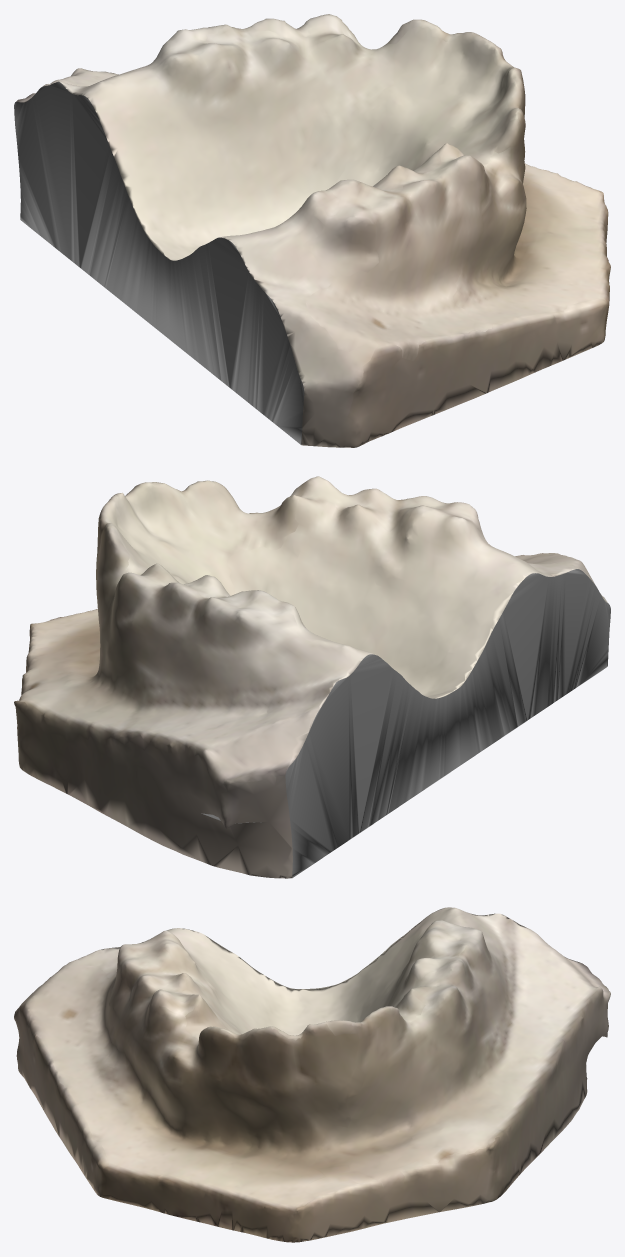
File: M-J-B-Haut-OK.fbx
The picture shows the model from 3 angles, top to bottom: view 1: azimuth 30°, elevation 25°; view 2: azimuth 150°, elevation 25°; view 3: azimuth 270°, elevation 25°; orthographic projection. The views are drawn at different scales.
Visible parts, largest first — view 1: mainMeshNode; view 2: mainMeshNode; view 3: mainMeshNode.
Part boxes in pixels (left/top/right/bottom): mainMeshNode: left=14, top=14, right=610, bottom=447; mainMeshNode: left=14, top=476, right=610, bottom=878; mainMeshNode: left=14, top=907, right=610, bottom=1242.
Size of the model in its own units: 0.0536 by 0.0712 by 0.0238.
Materials: 2 (1 with a texture image).
